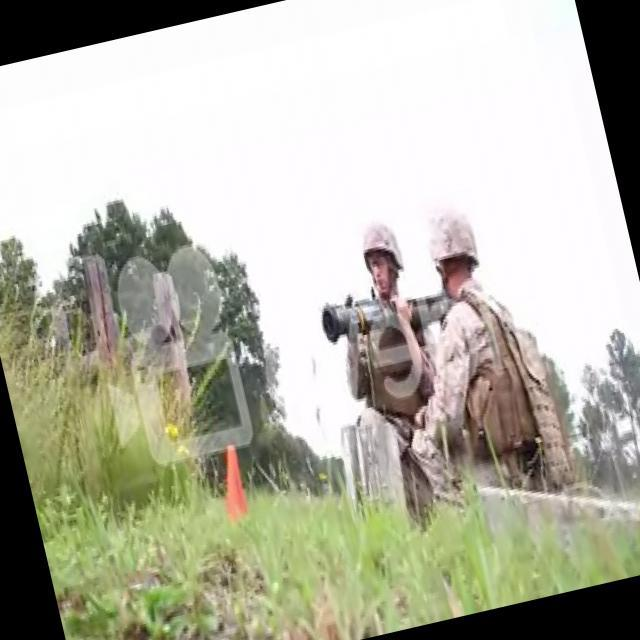rocket: (318, 280, 445, 346)
